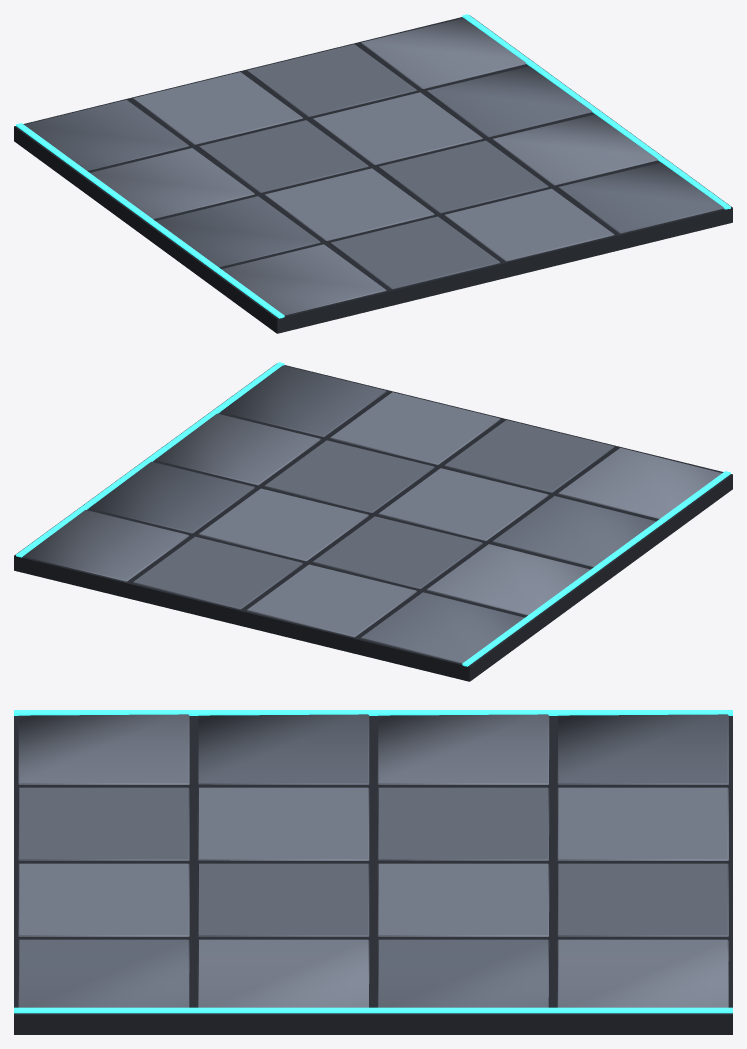
Rendered from sp_walk_lod.glb.
3 renders of one model, top to bottom at view 1: azimuth 30°, elevation 25°; view 2: azimuth 150°, elevation 25°; view 3: azimuth 270°, elevation 25°, orthographic. The views are drawn at different scales.
Visible parts, largest first — view 1: sp_walk_lod; view 2: sp_walk_lod; view 3: sp_walk_lod.
Boxes of the visible parts, box(x1,y1,x2,y2) form: sp_walk_lod: box(14, 14, 732, 333); sp_walk_lod: box(14, 362, 732, 681); sp_walk_lod: box(14, 710, 732, 1034).
Bounding box in the file's own units: 9.6 × 0.33 × 9.6.
